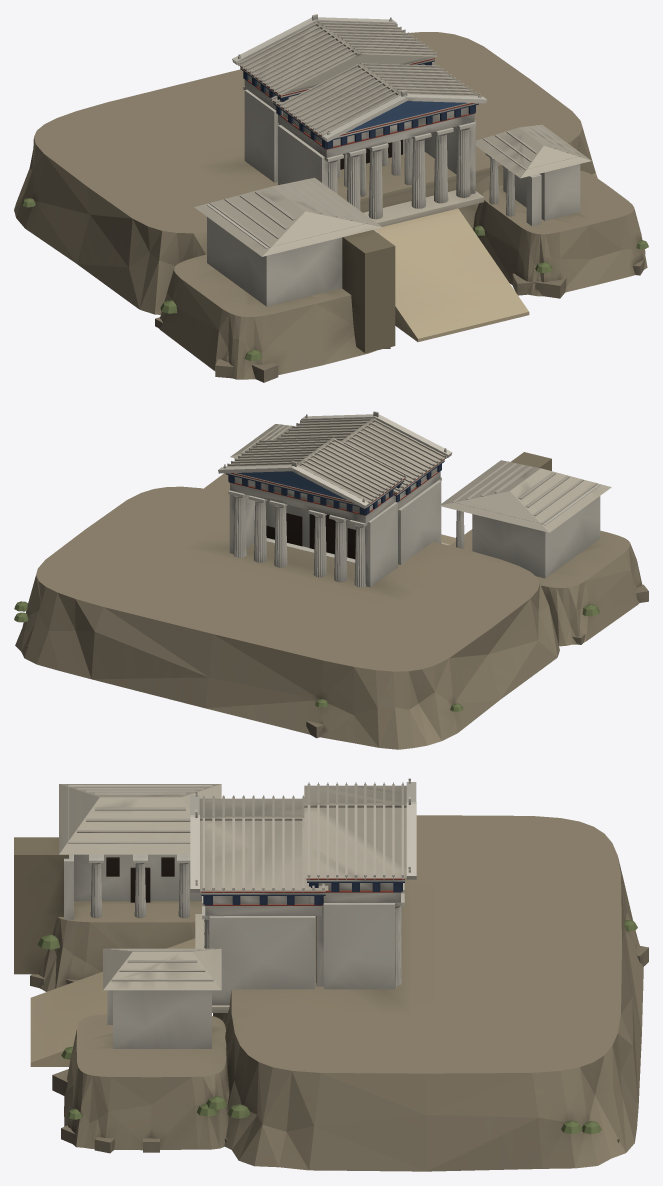
File: propylaia.glb
3 views of the same model, one above another, from view 1: azimuth 30°, elevation 25°; view 2: azimuth 150°, elevation 25°; view 3: azimuth 270°, elevation 25° (orthographic). The views are drawn at different scales.
Parts seen in each view (by area): view 1: p0_rock, p3_roof, p1_columns, p2_entablature; view 2: p0_rock, p3_roof, p1_columns, p2_entablature; view 3: p0_rock, p3_roof, p1_columns, p2_entablature.
Part boxes in pixels (box(x1,y1,x2,y2)): p0_rock: box(14, 32, 648, 382); p3_roof: box(194, 14, 591, 256); p1_columns: box(207, 86, 580, 353); p2_entablature: box(240, 57, 478, 157); p0_rock: box(14, 473, 648, 749); p3_roof: box(218, 411, 611, 532); p1_columns: box(228, 452, 600, 587); p2_entablature: box(225, 459, 444, 523); p0_rock: box(30, 815, 648, 1171); p3_roof: box(59, 778, 416, 990); p1_columns: box(14, 785, 404, 1048); p2_entablature: box(201, 878, 404, 915).
Size of the model in its own units: 60.32 by 23.76 by 57.75.
